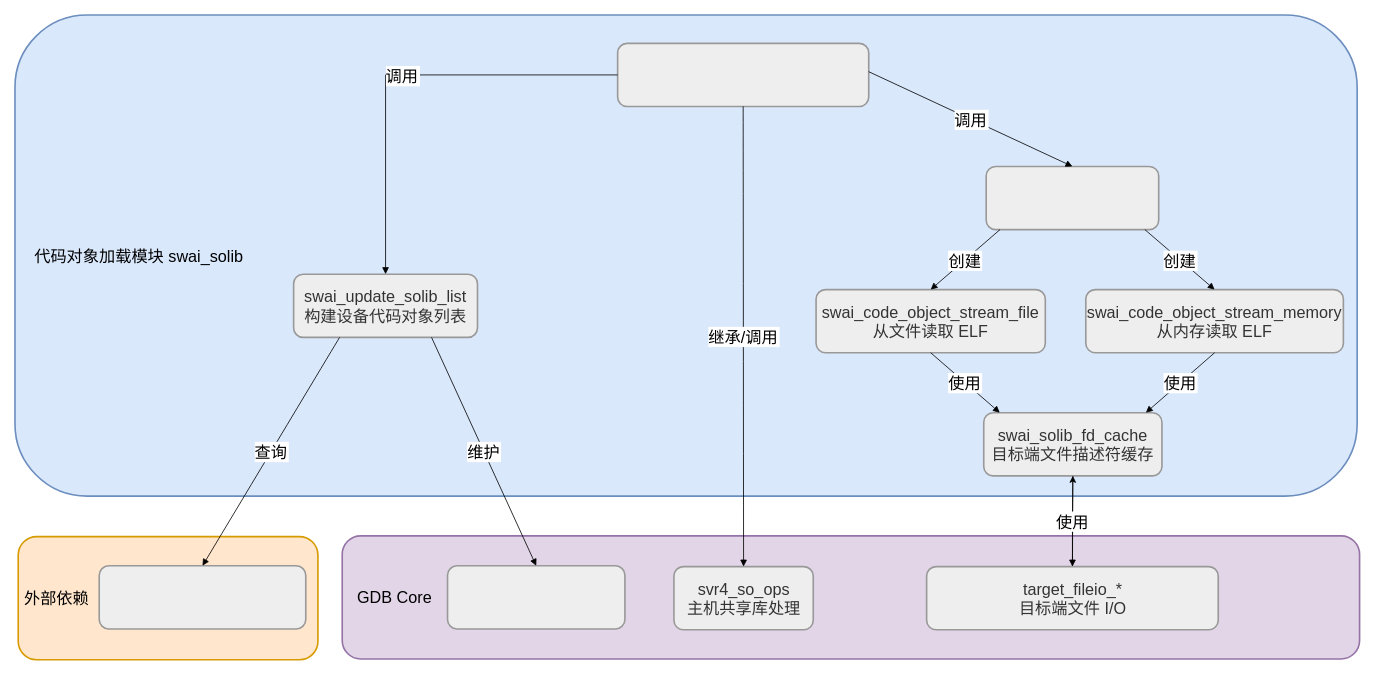
The diagram is 1374 pixels wide and 674 high, and some of its shapes have lost their labels. The centre of each missing label's shape, as x and y in pixels:
"so_list 更新设备库，触发 solib_add 加载符号" belongs at [535,597].
"swai_dbgapi 查询代码对象列表、URI、地址" belongs at [202,597].
"swai_solib_bfd_open 打开代码对象 BFD" belongs at [1072,197].
"swai_solib_ops 实现 target_so_ops接口" belongs at [742,74].
